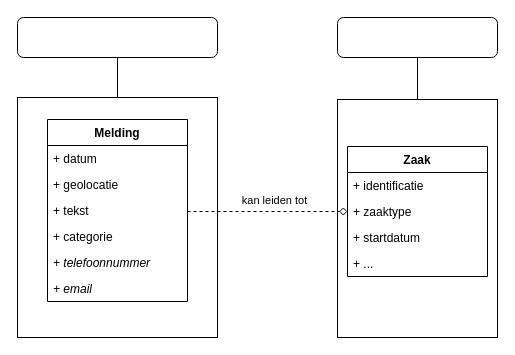
Some shapes in this 515 by 355 pixel diagram are drawn without their labels. The centre of each missing label's shape, as x and y in pixels:
"Meldingen API" belongs at (x=117, y=37).
"Zakenregistratie API" belongs at (x=417, y=37).
